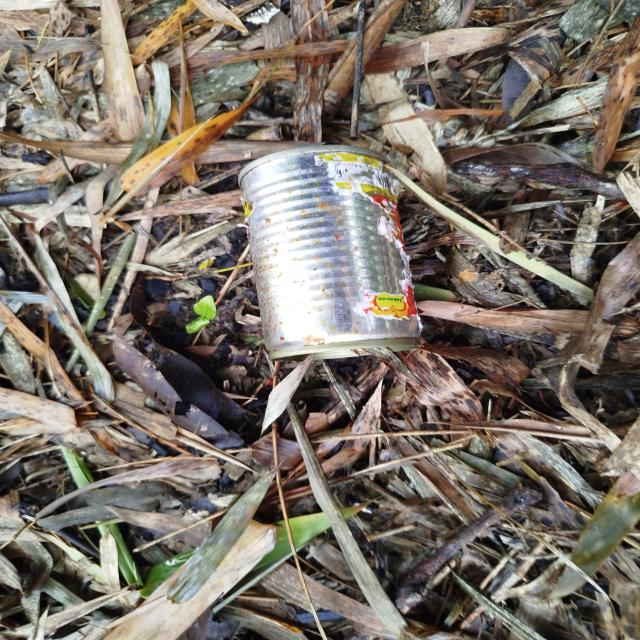metal: (220, 133, 470, 374)
